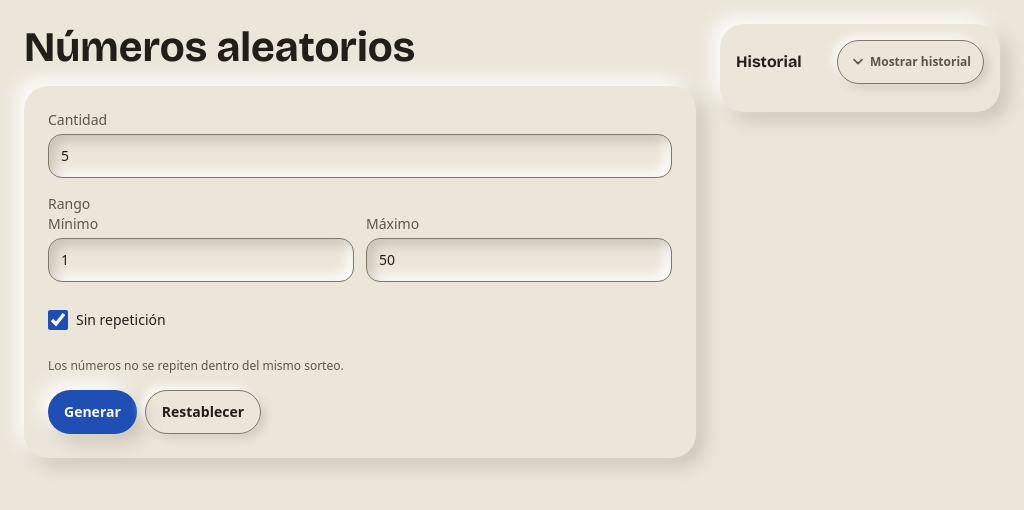
Test: NumbersPage — formulario › rechaza un rango invertido (máximo menor que el mínimo)
Replace the text in the number field labelled "Mínimo" with "10" at (201, 260), box [48,238,354,282]
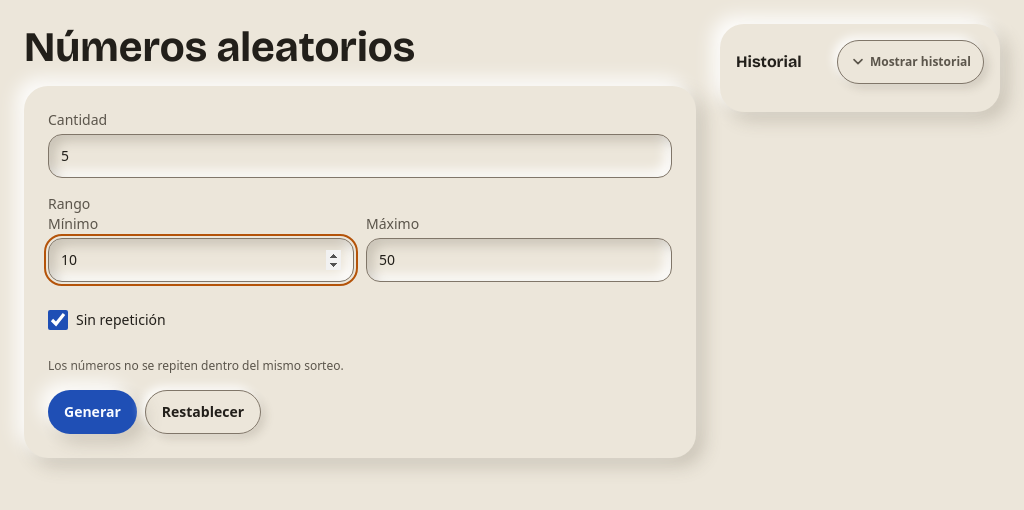
Replace the text in the number field labelled "Máximo" with "1" at (519, 260), box [366,238,672,282]
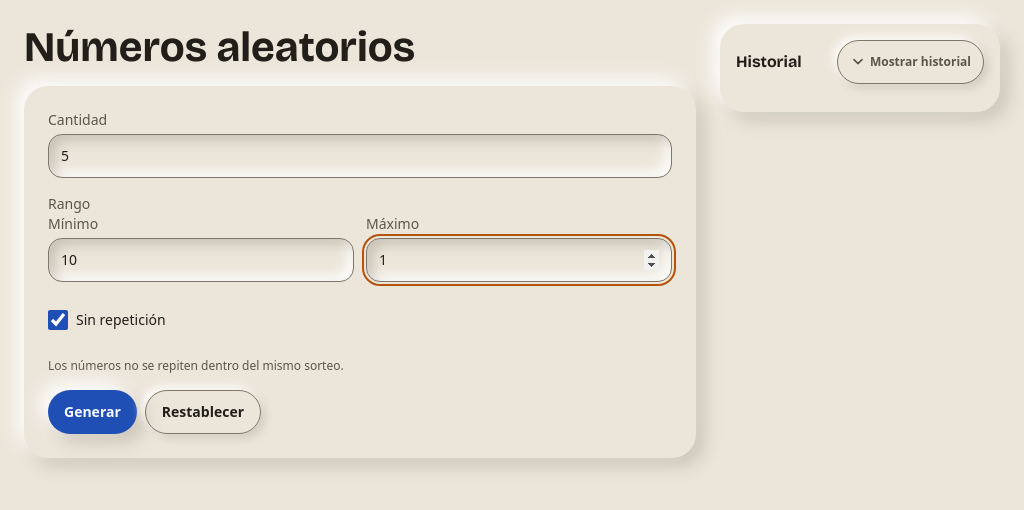
Click the button "Generar" at (92, 412), box [48,390,137,434]
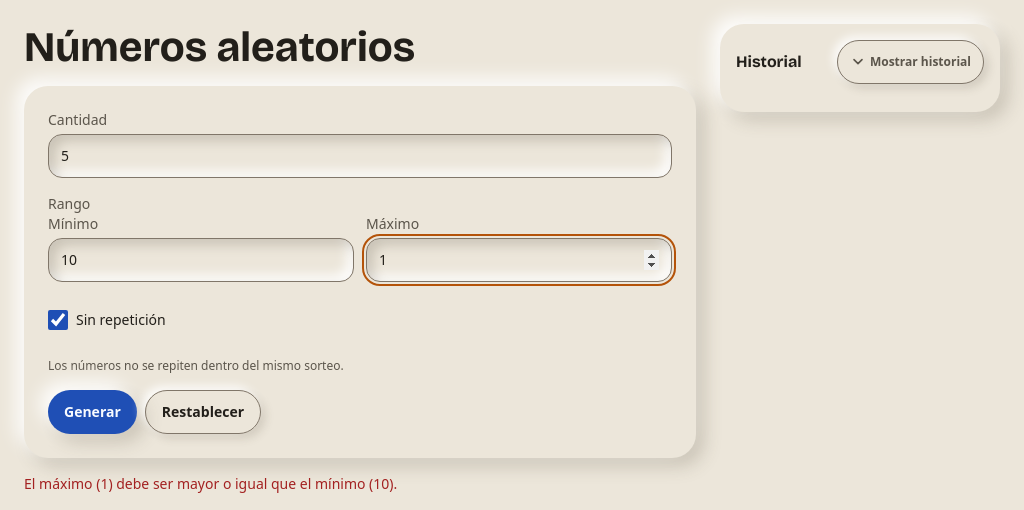
Expected: the message shows "debe ser mayor o igual", [24,474,397,493]
